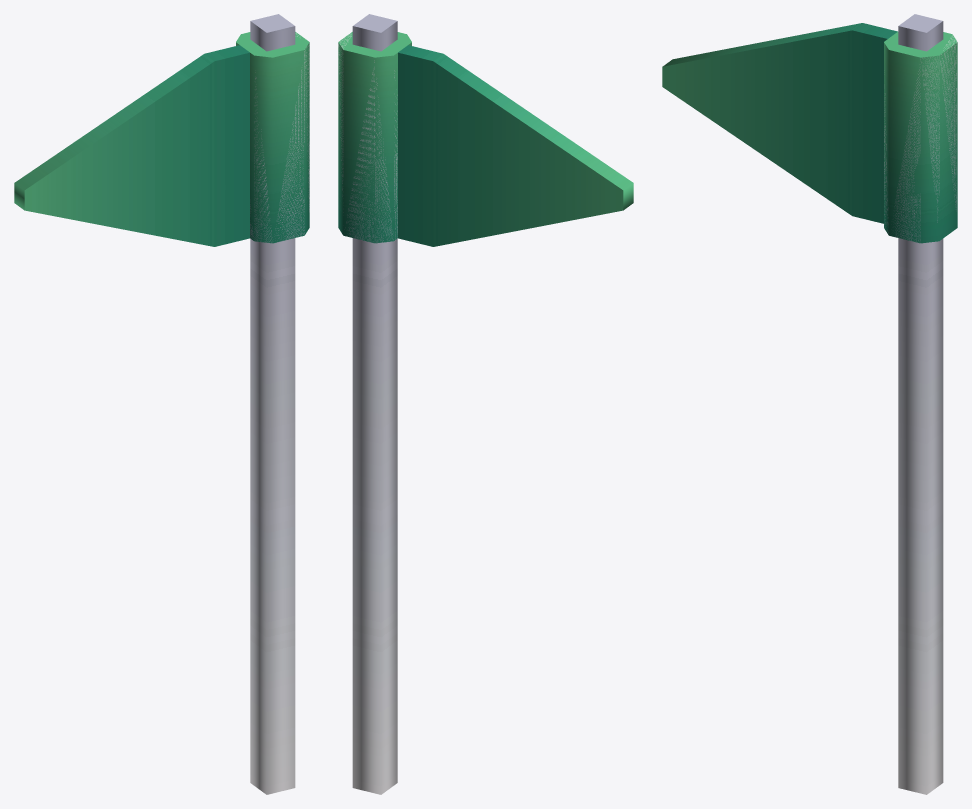
The model's file is flag-green.glb.
3 views of the same model, side by side, from view 1: azimuth 30°, elevation 25°; view 2: azimuth 150°, elevation 25°; view 3: azimuth 330°, elevation 25° (orthographic).
Parts seen in each view (by area): view 1: flag-green; view 2: flag-green; view 3: flag-green.
Part boxes in pixels (left/top/right/bottom): flag-green: left=14, top=14, right=309, bottom=794; flag-green: left=338, top=14, right=633, bottom=794; flag-green: left=662, top=14, right=957, bottom=794.
Size of the model in its own units: 0.3955 by 1.02 by 0.0781.
Materials: 1 (1 with a texture image).
